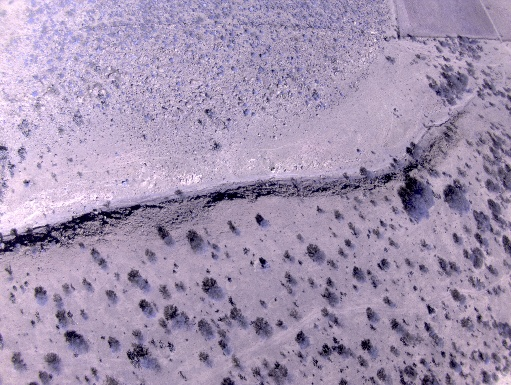agave: (254, 75, 264, 85), (94, 45, 105, 54), (217, 65, 225, 77), (312, 92, 321, 102), (229, 66, 239, 74), (258, 66, 266, 74), (249, 53, 259, 59), (173, 33, 179, 43), (243, 109, 251, 116), (252, 89, 260, 96), (152, 57, 159, 65), (220, 35, 227, 42), (242, 103, 250, 109), (306, 100, 314, 106), (46, 59, 54, 65), (32, 75, 39, 81), (227, 43, 233, 50), (260, 53, 268, 58), (251, 112, 257, 118), (277, 80, 283, 86), (175, 81, 181, 87), (59, 73, 65, 79), (333, 36, 339, 42), (272, 68, 278, 74), (89, 54, 95, 60), (31, 92, 38, 97), (56, 56, 63, 61), (42, 75, 48, 80), (229, 31, 234, 37), (297, 67, 303, 72), (67, 31, 73, 36), (169, 58, 174, 63), (145, 64, 150, 68)
